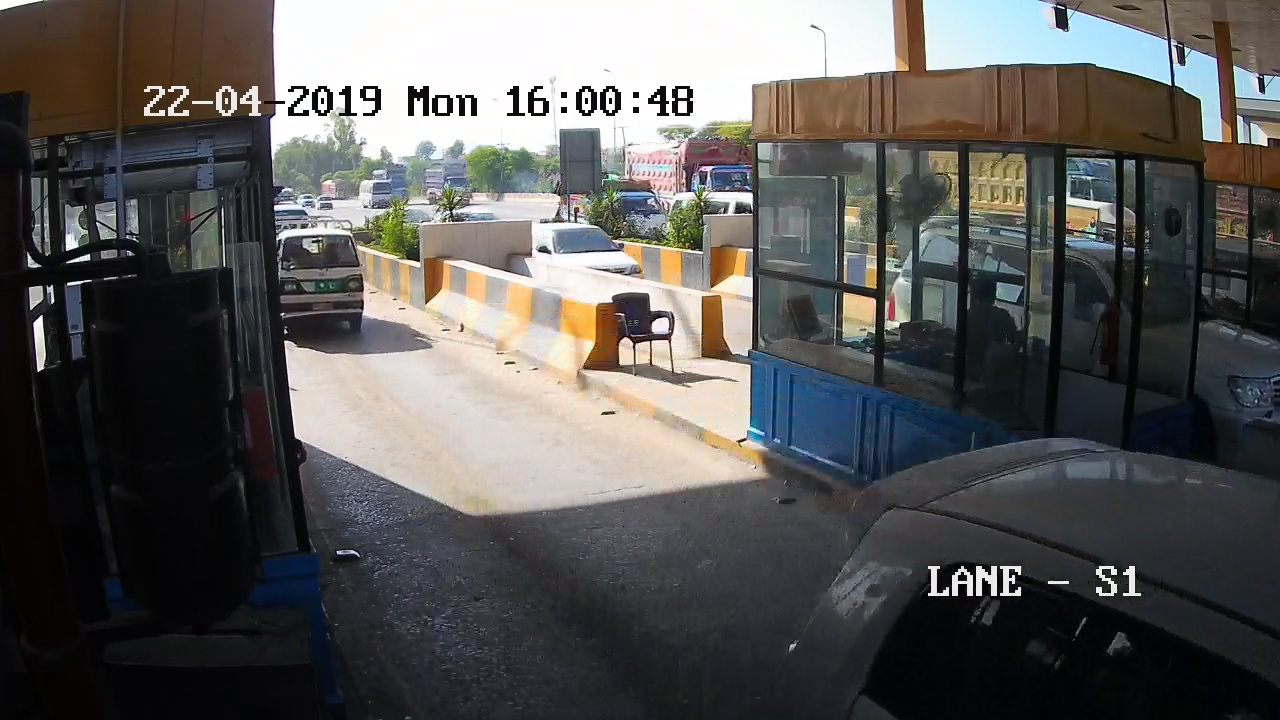car: (790, 470, 1280, 711), (279, 217, 379, 352)
